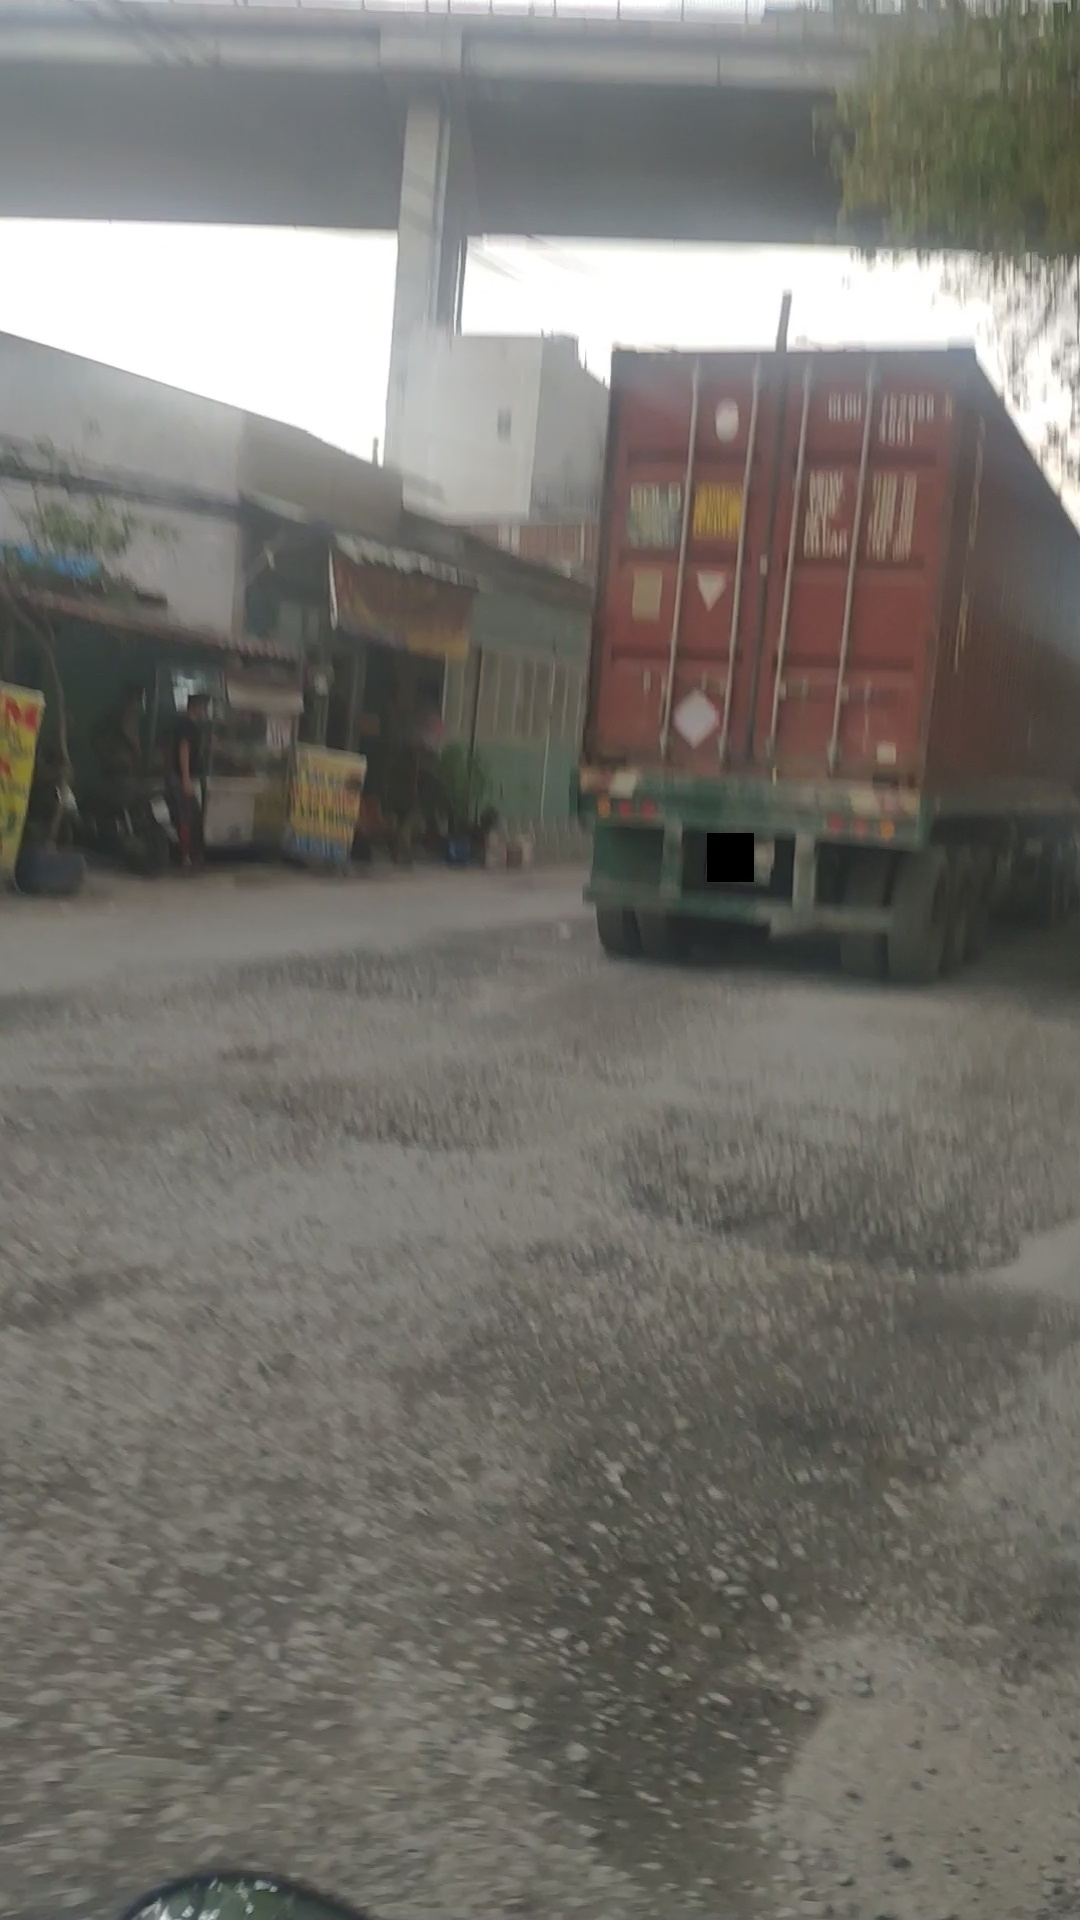hole: (611, 1101, 1080, 1299), (233, 1065, 560, 1168), (223, 942, 509, 1018)
